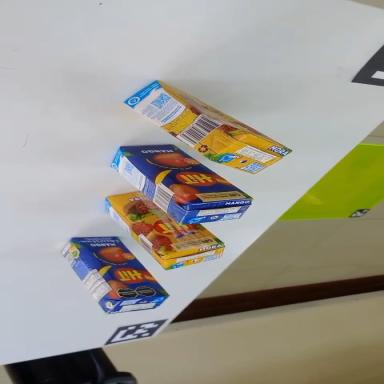HIT-MANGO: (103, 121, 254, 250), (54, 215, 170, 336)
HIT-MORA: (119, 71, 293, 192), (94, 170, 228, 291)
